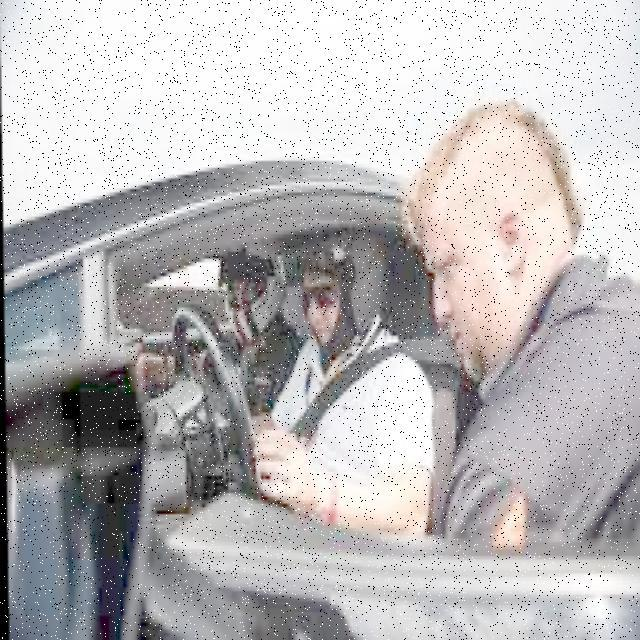seatbelt: (274, 330, 440, 485)
